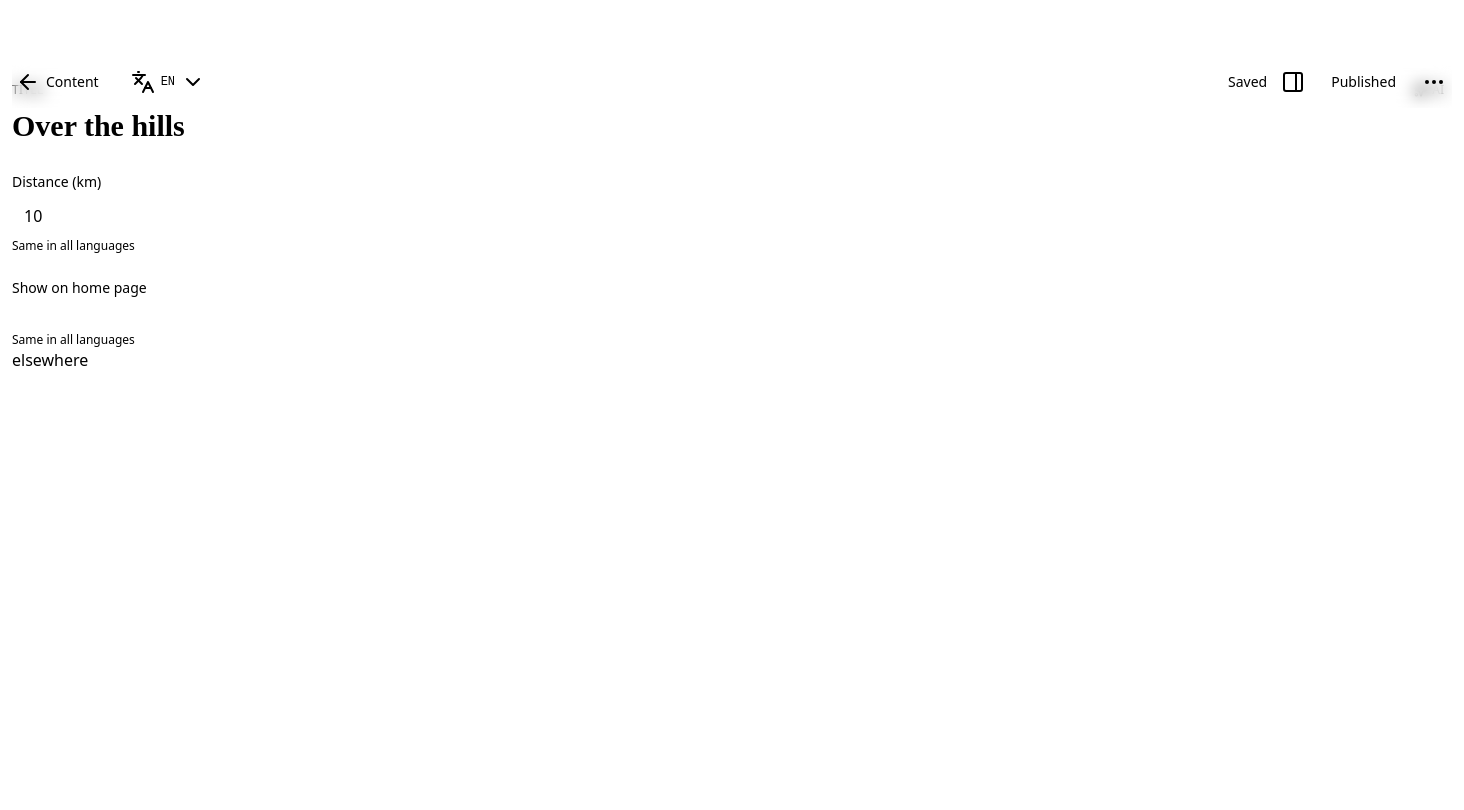
Scenario: translates with AI and opens the new draft
Click the button with aria-label "Language: English": (168, 82) x1=119 y1=66 x2=217 y2=98
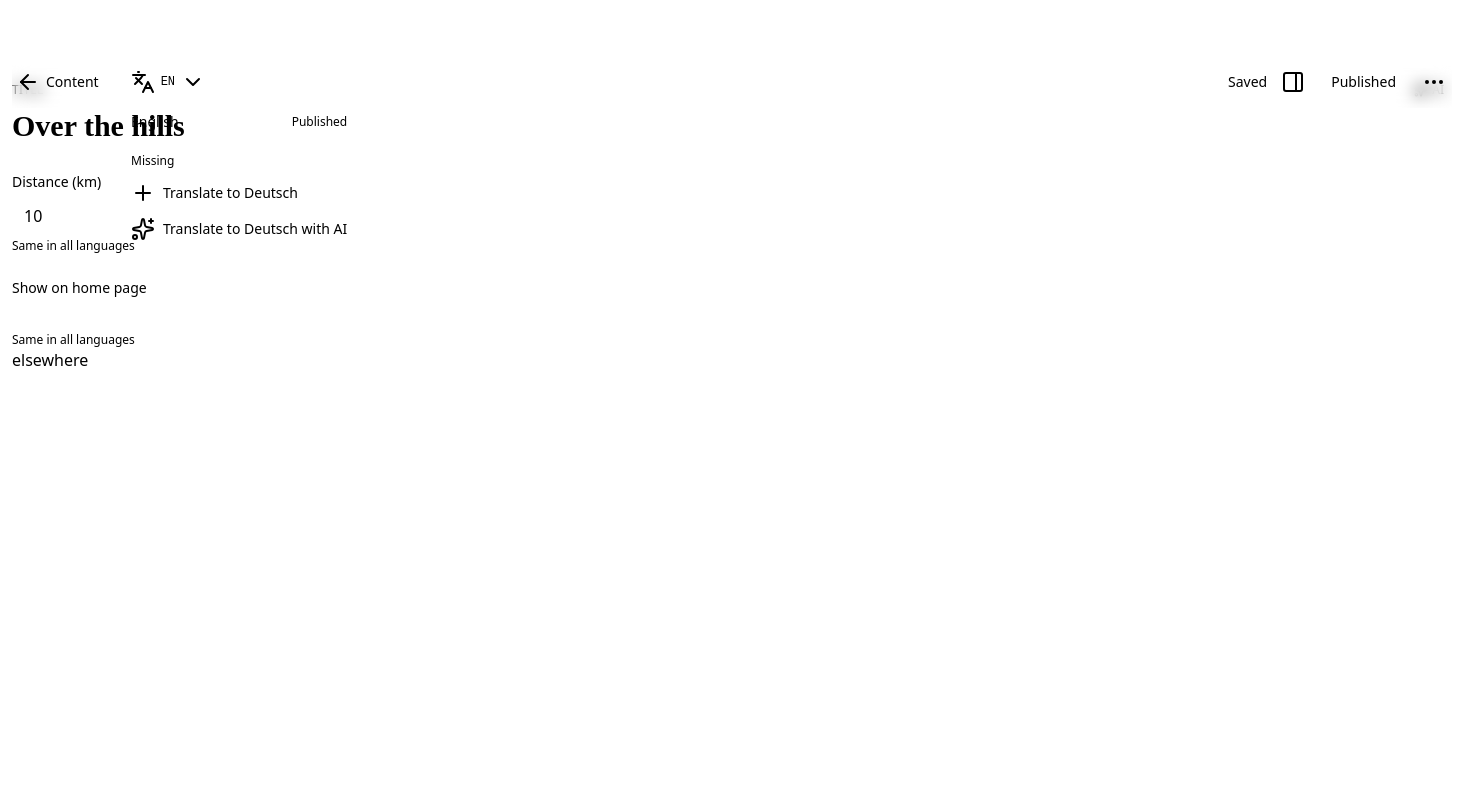
Click the menu item "Translate to Deutsch with AI": (239, 229) x1=123 y1=211 x2=355 y2=247
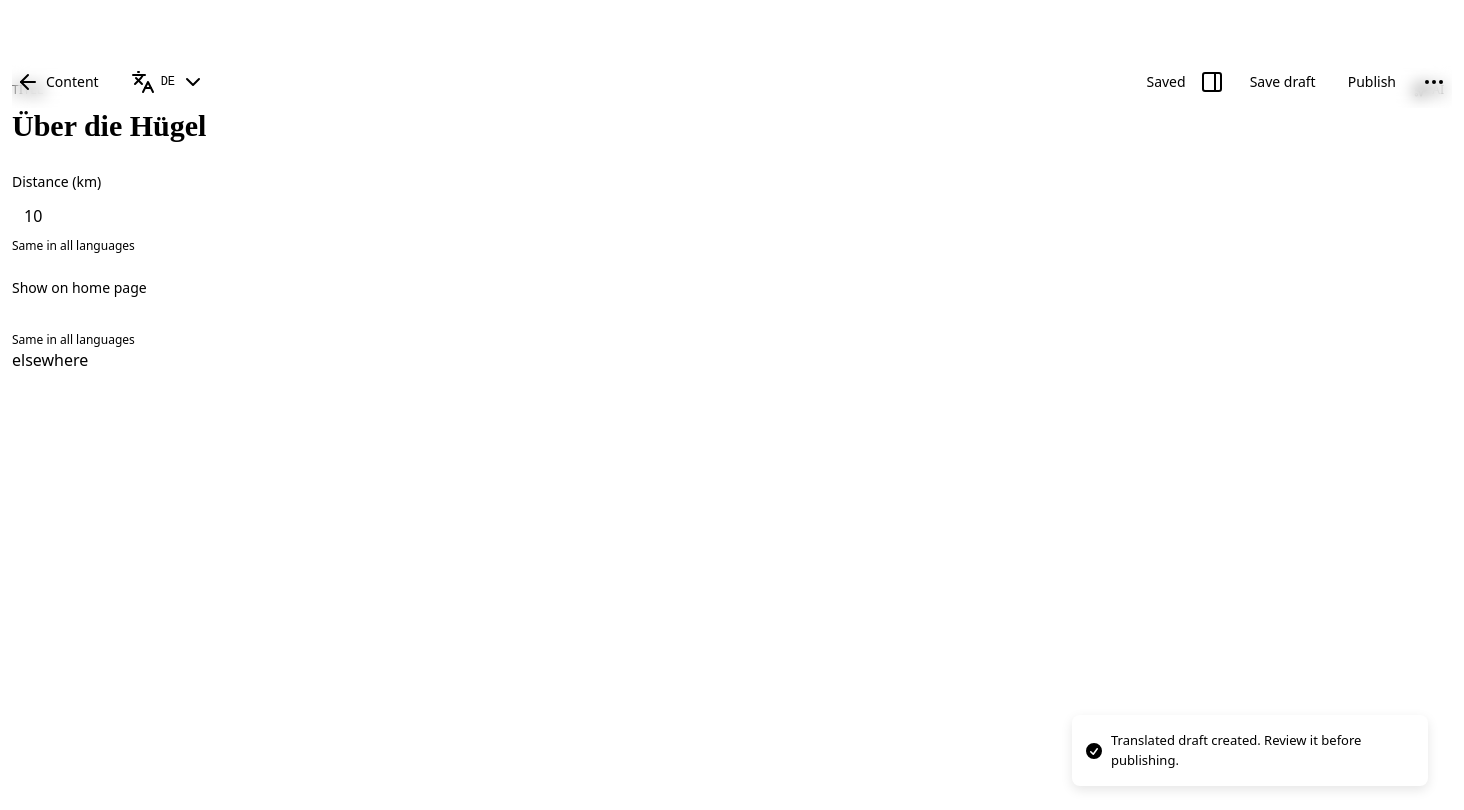
Now the field showing "Über die Hügel" is shown, box x1=12 y1=108 x2=1452 y2=148
